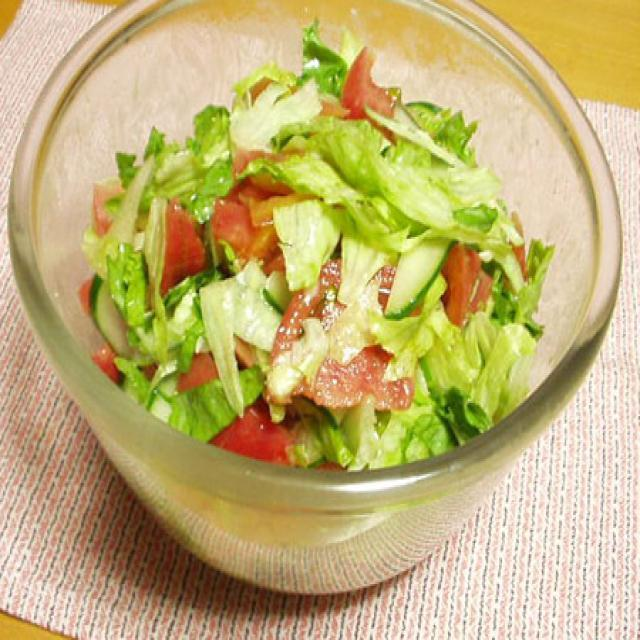Green Salad: (82, 59, 542, 469)
